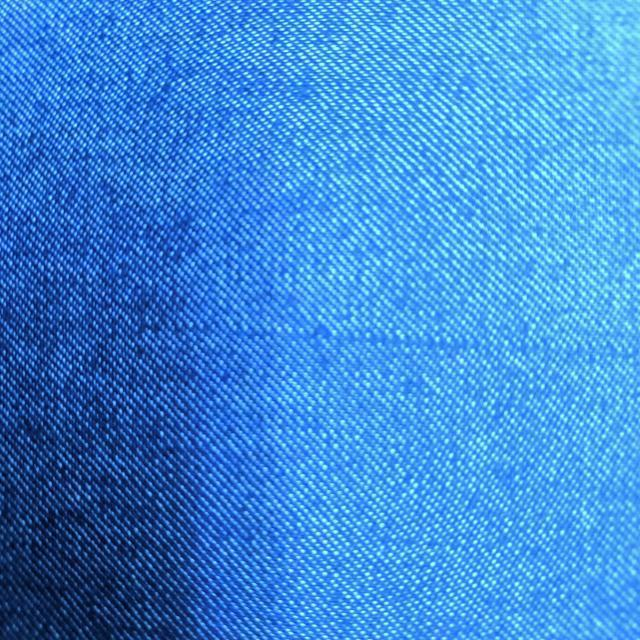Line: (132, 310, 628, 360)
